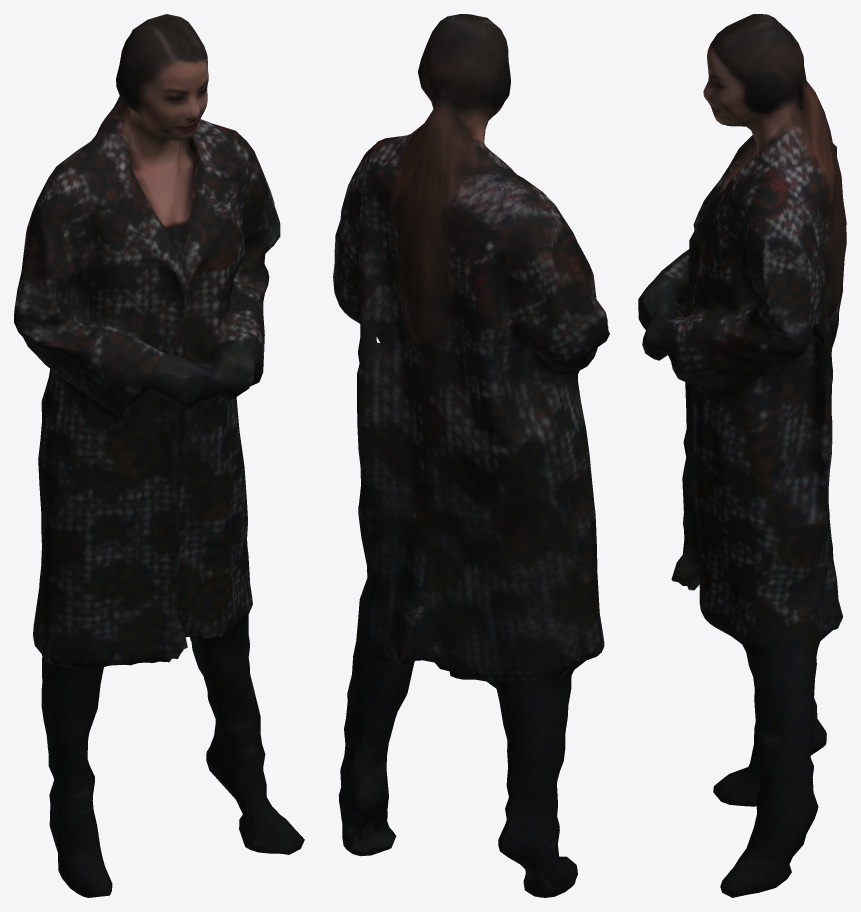
Rendered from evercoast.0027.gltf.
The picture shows the model from 3 angles, left to right: view 1: azimuth 30°, elevation 25°; view 2: azimuth 150°, elevation 25°; view 3: azimuth 270°, elevation 25°; orthographic projection. The views are drawn at different scales.
Visible parts, largest first — view 1: HIGH; view 2: HIGH; view 3: HIGH.
Boxes of the visible parts, x1,y1,x2,y2 form: HIGH: (14, 14, 304, 897); HIGH: (333, 14, 609, 897); HIGH: (638, 14, 846, 897).
Bounding box in the file's own units: 0.6088 × 1.84 × 0.4208.
Materials: 1 (1 with a texture image).
